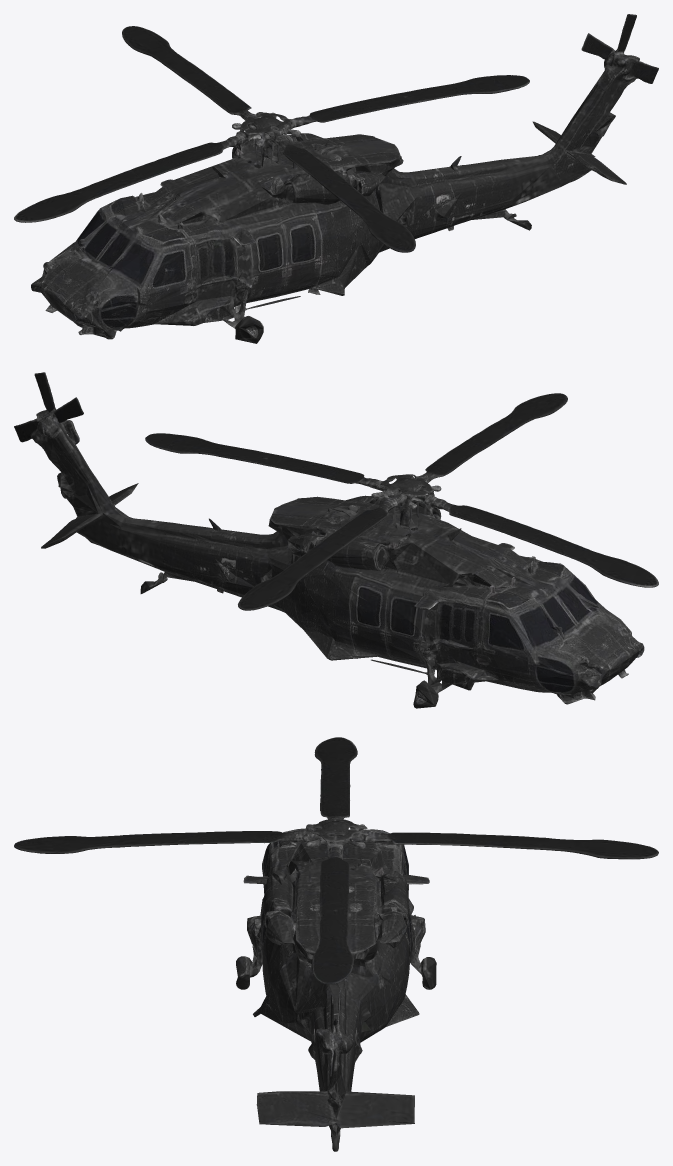
File: heli.glb
The picture shows the model from 3 angles, top to bottom: view 1: azimuth 30°, elevation 25°; view 2: azimuth 150°, elevation 25°; view 3: azimuth 270°, elevation 25°; orthographic projection. The views are drawn at different scales.
Parts seen in each view (by area): view 1: body, rotor_main, rotor_tail; view 2: body, rotor_main, rotor_tail; view 3: body, rotor_main, rotor_tail.
Boxes of the visible parts, <box> form: body: <box>31,74,626,343</box>; rotor_main: <box>14,26,529,252</box>; rotor_tail: <box>581,14,658,97</box>; body: <box>41,433,644,708</box>; rotor_main: <box>145,393,658,610</box>; rotor_tail: <box>14,372,83,459</box>; body: <box>236,769,436,1151</box>; rotor_main: <box>14,737,658,984</box>; rotor_tail: <box>316,989,353,1087</box>.
Size of the model in its own units: 1.9 by 0.5598 by 1.53.
Materials: 1 (1 with a texture image).
